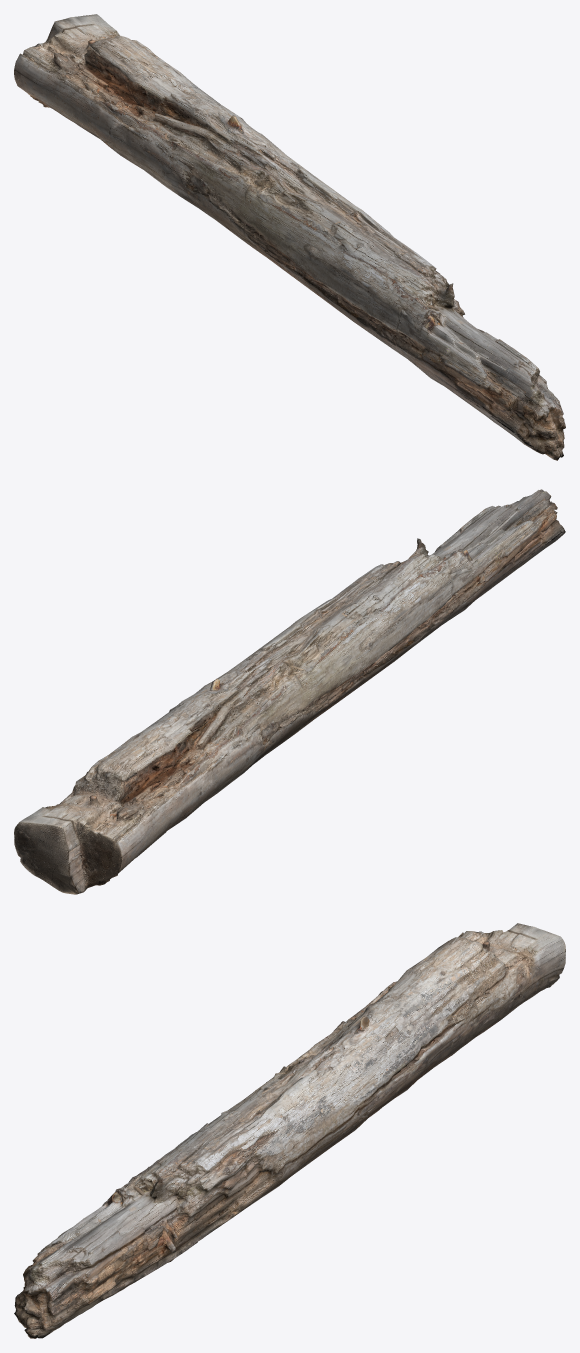
File: sm_FallenTree_01_01.fbx
3 renders of one model, top to bottom at view 1: azimuth 30°, elevation 25°; view 2: azimuth 150°, elevation 25°; view 3: azimuth 330°, elevation 25°, orthographic. The views are drawn at different scales.
Visible parts, largest first — view 1: sm_FallenTree_01_01_LOD0; view 2: sm_FallenTree_01_01_LOD0; view 3: sm_FallenTree_01_01_LOD0.
Part boxes in pixels (box(x1,y1,x2,y2)): sm_FallenTree_01_01_LOD0: box(14, 14, 565, 460); sm_FallenTree_01_01_LOD0: box(14, 489, 565, 894); sm_FallenTree_01_01_LOD0: box(14, 923, 565, 1338).
Size of the model in its own units: 42.55 by 370 by 40.34.
